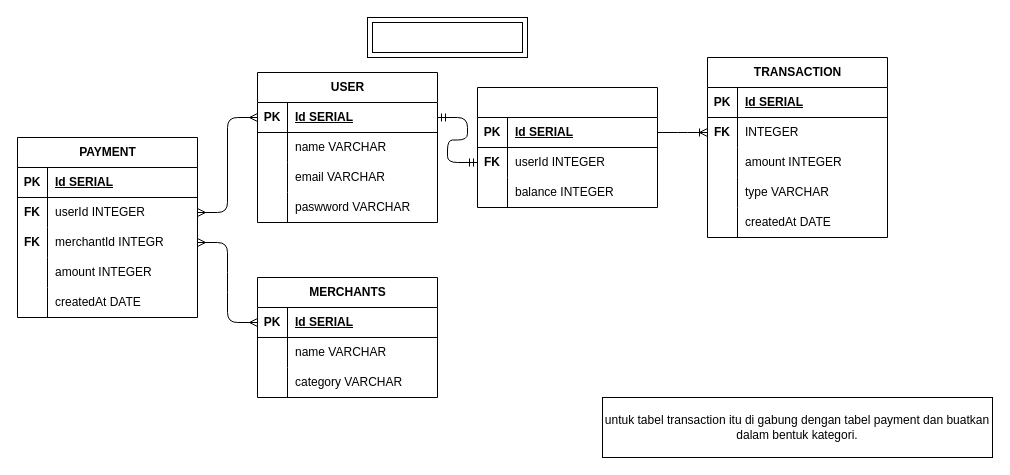
This 1010x475 diagram has some shape labels left out. Each missing label, with the box of its shape:
ERD RELASI: (366, 16, 528, 58)
WALLET: (476, 86, 658, 208)
